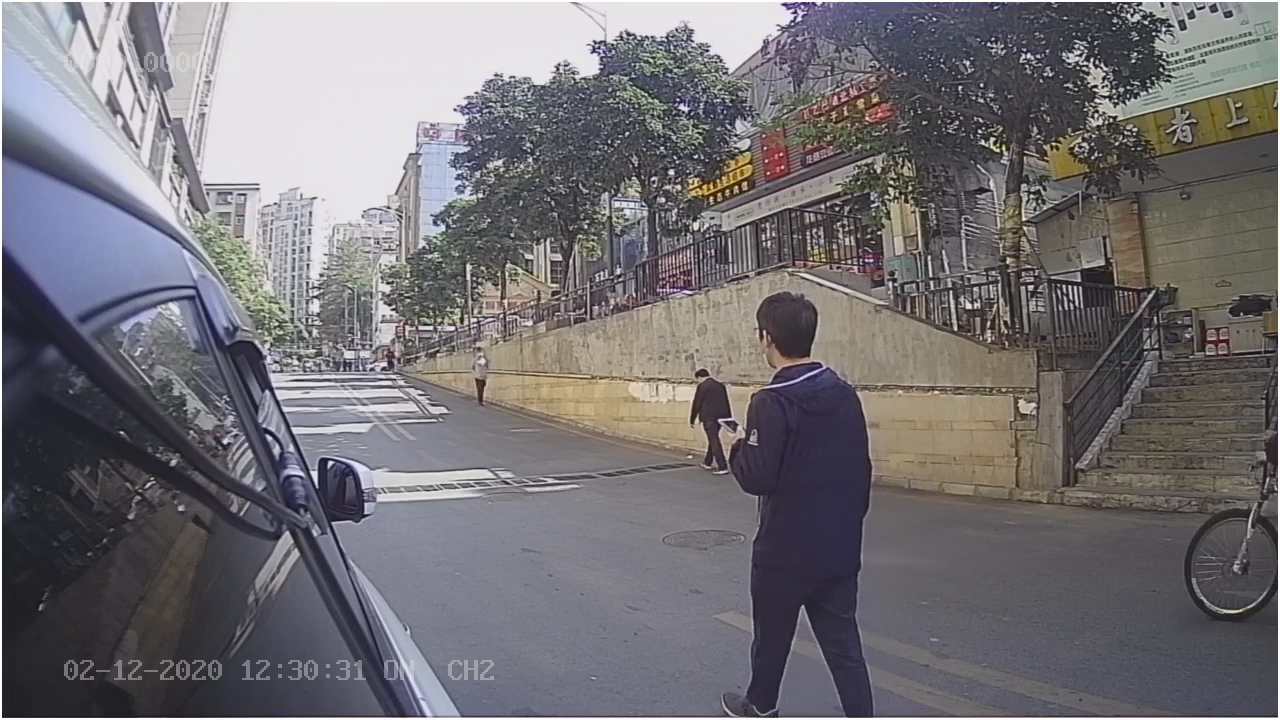person: (719, 292, 889, 511)
